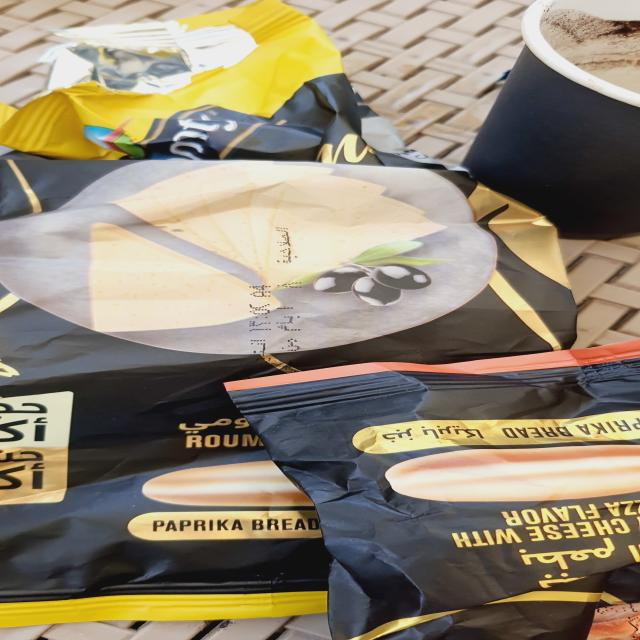Metal: (223, 341, 638, 639)
